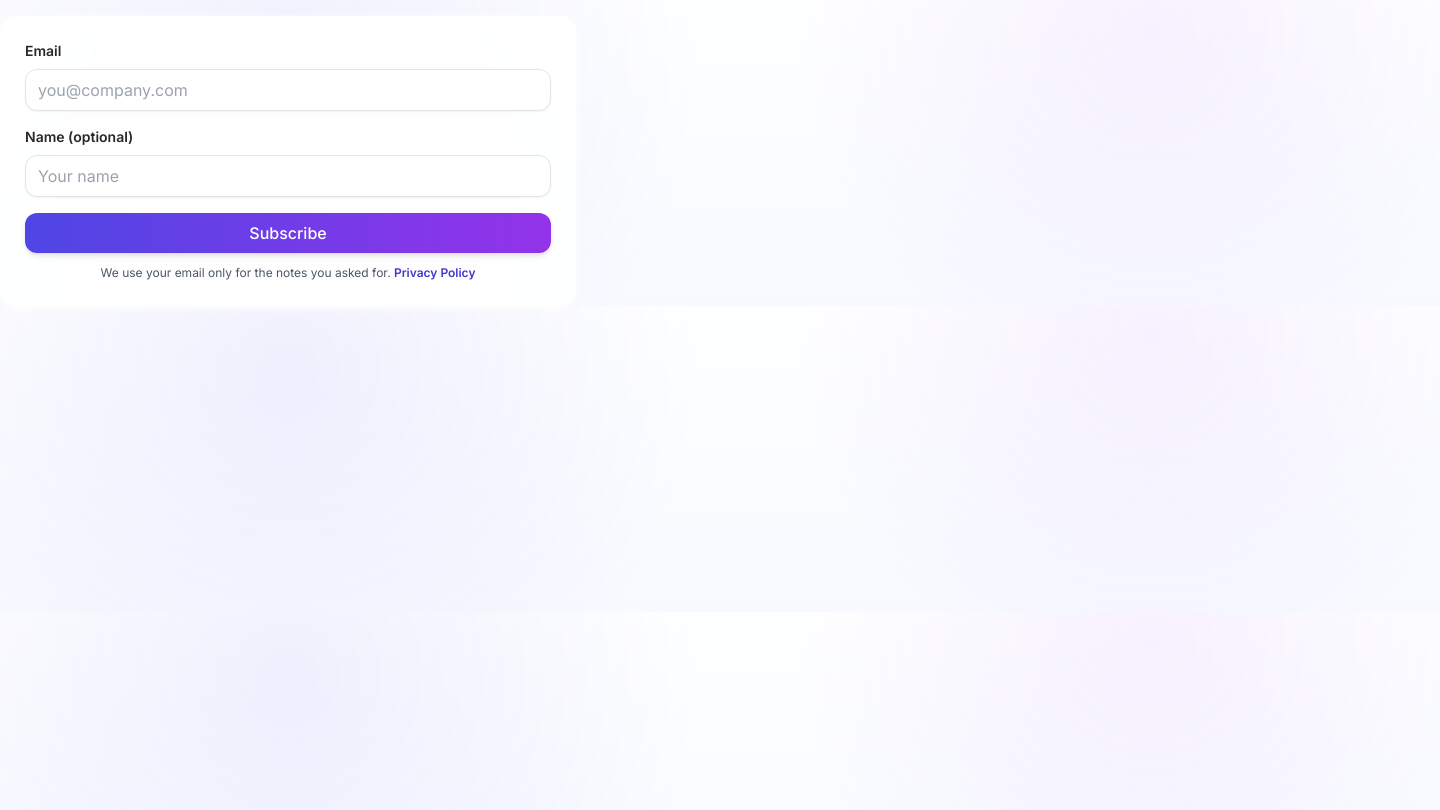
Test: subscribe form › the server's error message is shown on the page
In the field labelled "Email": (288, 90) left=25, top=69, right=551, bottom=111, type "person@example.com"
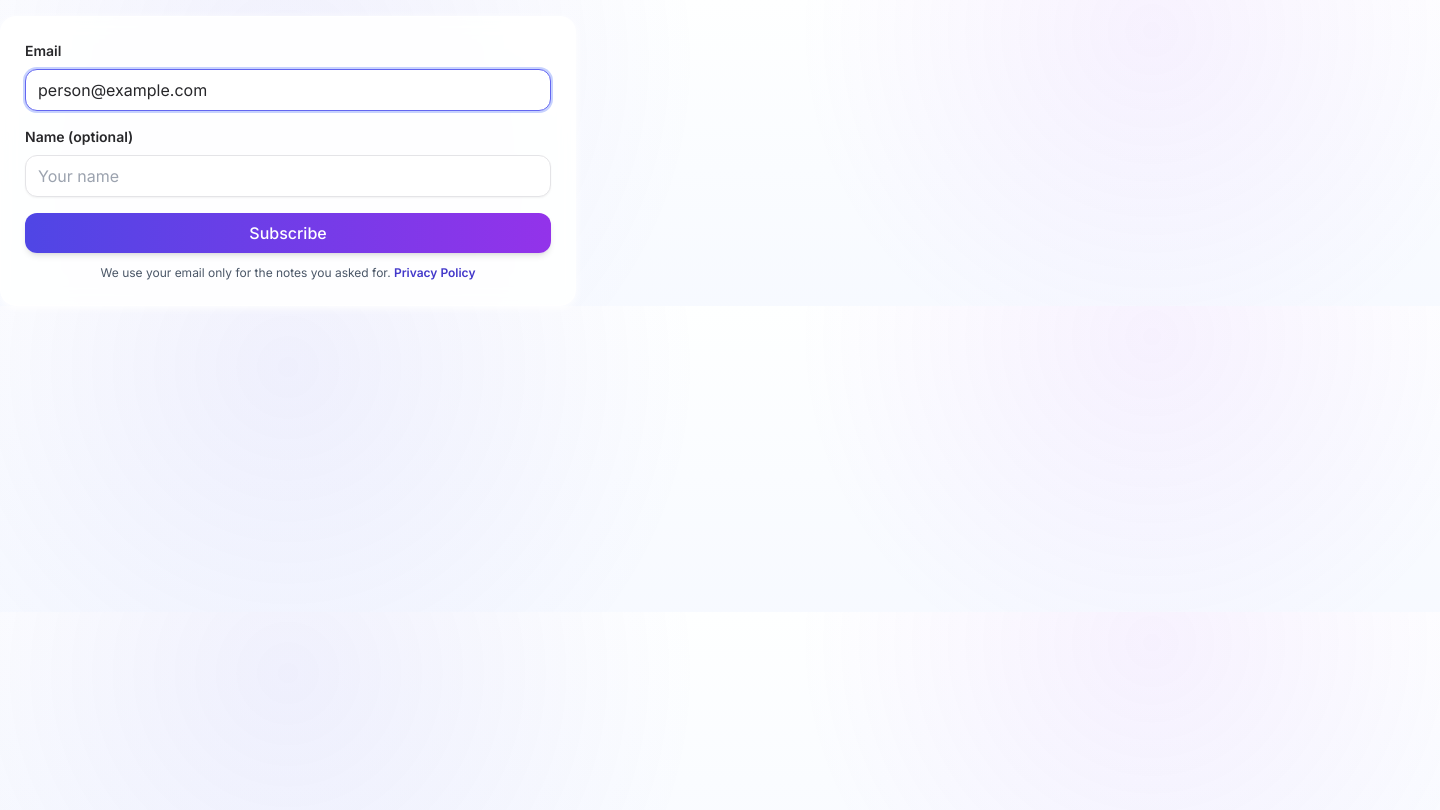
Click the button "Subscribe": (288, 233) left=25, top=213, right=551, bottom=253
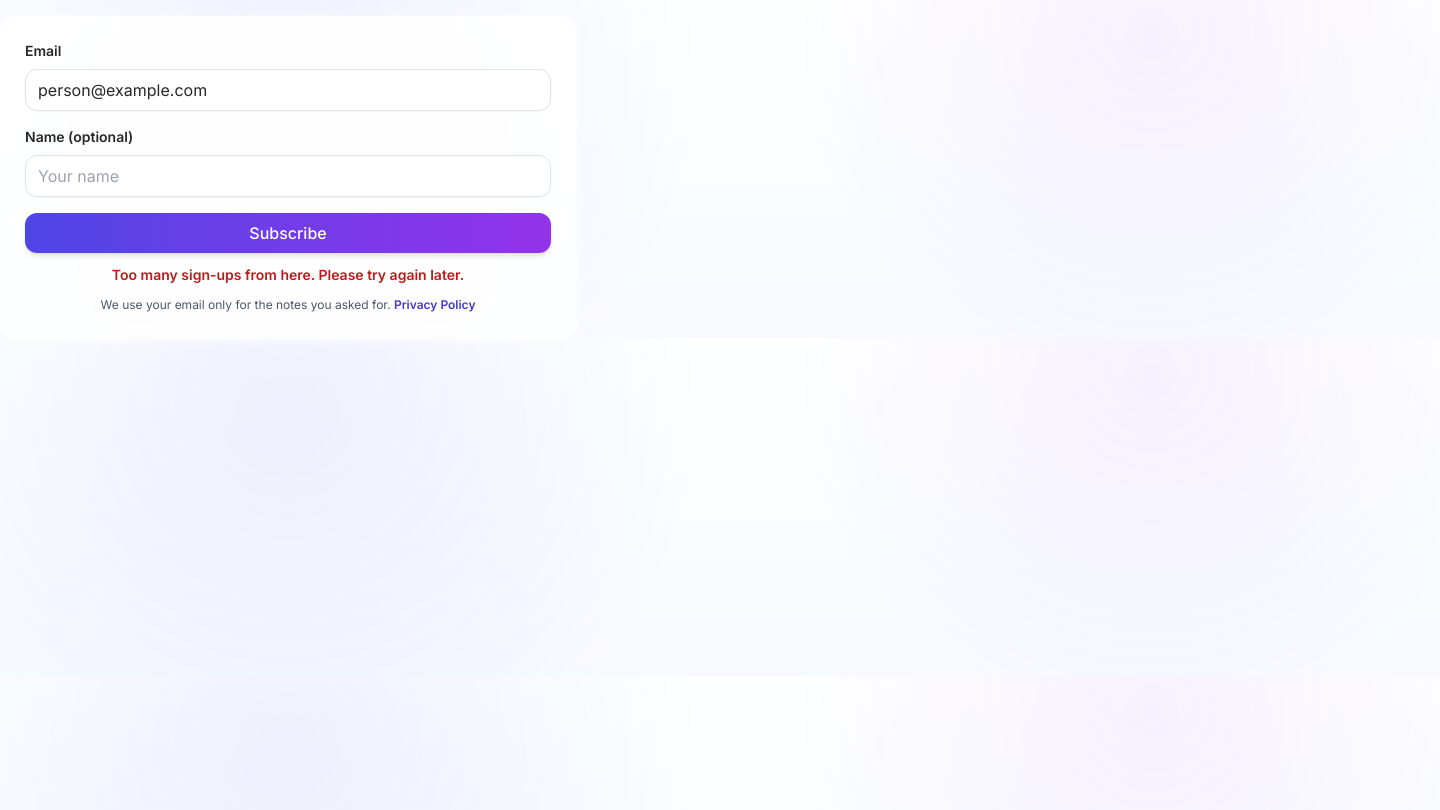
Expected: the message reads "Too many sign-ups from here. Please try again later.", left=112, top=266, right=464, bottom=283
